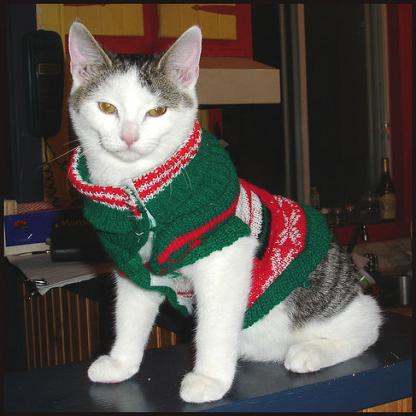bottle: (376, 158, 396, 222)
cat: (68, 19, 382, 404)
